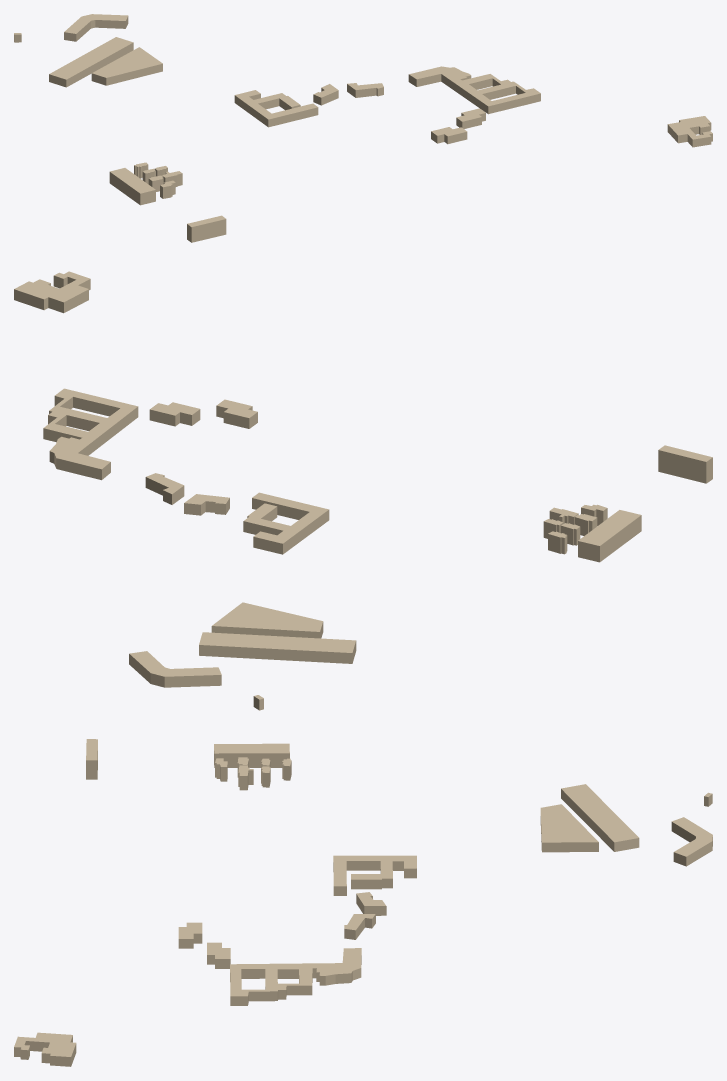
File: 15_3-estimated-coarse.glb
3 views of the same model, one above another, from view 1: azimuth 30°, elevation 25°; view 2: azimuth 150°, elevation 25°; view 3: azimuth 270°, elevation 25° (orthographic). The views are drawn at different scales.
Bounding box in the file's own units: 816 × 24 × 782.
